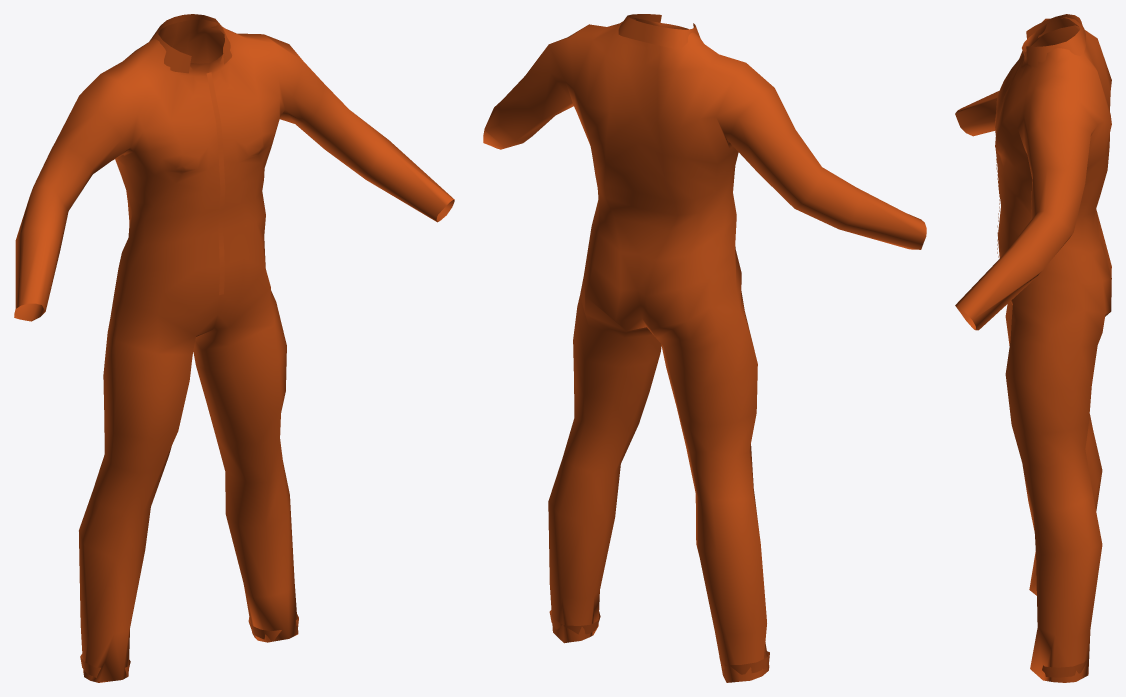
The model's file is jumpsuit.glb.
3 renders of one model, left to right at view 1: azimuth 30°, elevation 25°; view 2: azimuth 150°, elevation 25°; view 3: azimuth 270°, elevation 25°, orthographic. The views are drawn at different scales.
Parts seen in each view (by area): view 1: jumpsuit; view 2: jumpsuit; view 3: jumpsuit.
Boxes of the visible parts, box(x1,y1,x2,y2) form: jumpsuit: box(14, 14, 454, 682); jumpsuit: box(483, 14, 926, 682); jumpsuit: box(955, 14, 1111, 682).
Size of the model in its own units: 1.07 by 1.48 by 0.3424.
